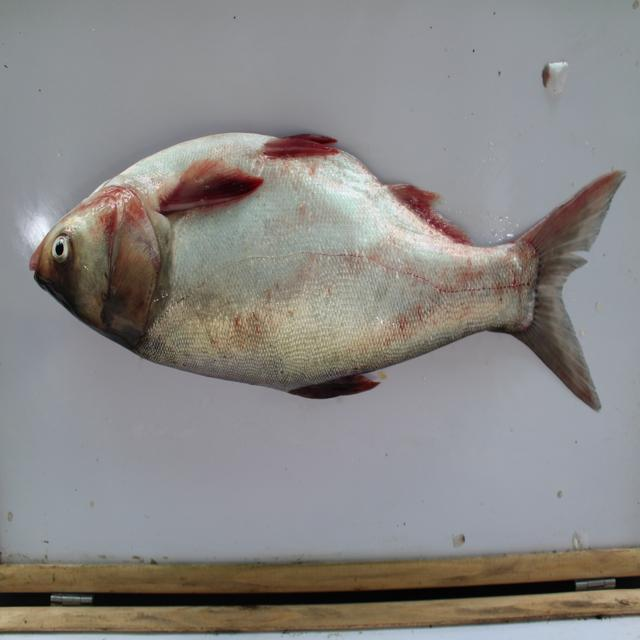Silver Carp: (31, 125, 625, 405)
